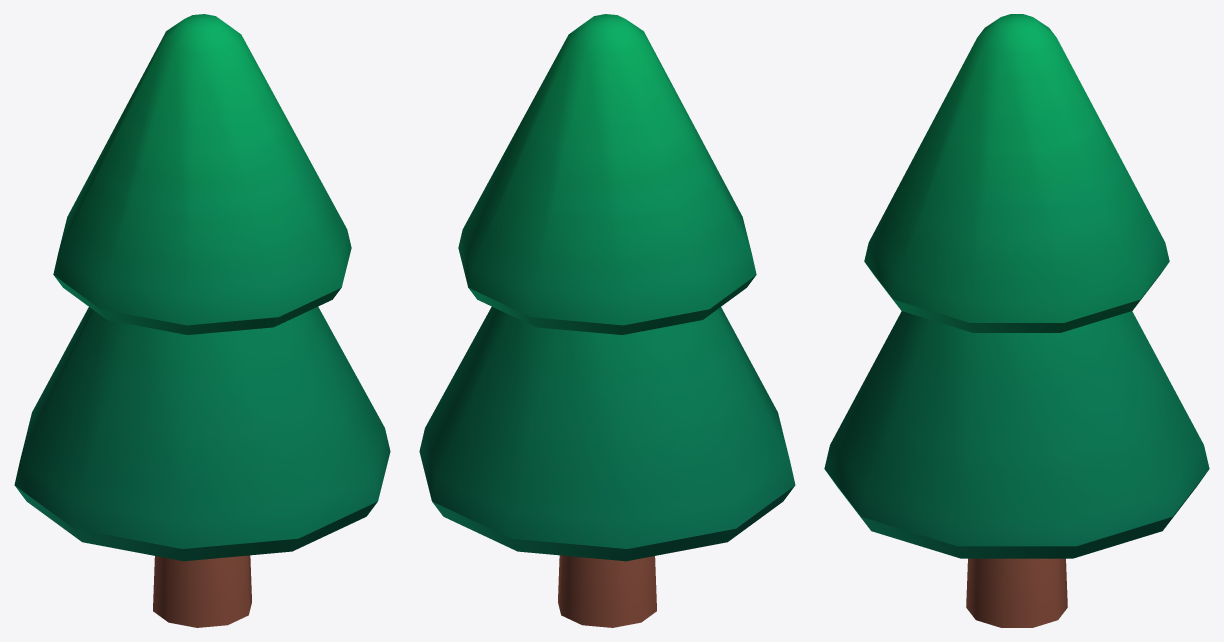
The model's file is kay-pinheiro-vila.gltf.
3 renders of one model, left to right at view 1: azimuth 30°, elevation 25°; view 2: azimuth 150°, elevation 25°; view 3: azimuth 270°, elevation 25°, orthographic.
Visible parts, largest first — view 1: tree_single_B; view 2: tree_single_B; view 3: tree_single_B.
Boxes of the visible parts, box(x1,y1,x2,y2) form: tree_single_B: box(14, 14, 390, 627); tree_single_B: box(419, 14, 795, 627); tree_single_B: box(824, 14, 1209, 627).
Size of the model in its own units: 3.42 by 6.06 by 3.6.
1 material, 1 textured.
